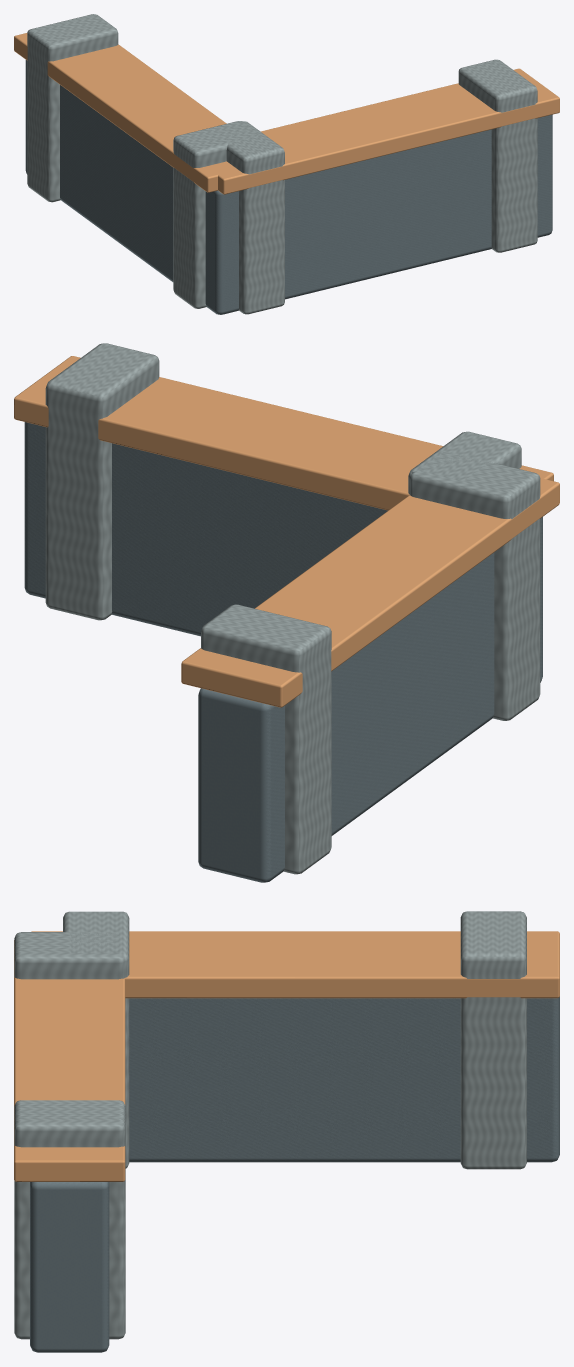
File: dwarven-runeforge-dungeon-dwarven-runeforge-dungeon-pa-c2a74ee6__28583.glb
3 renders of one model, top to bottom at view 1: azimuth 30°, elevation 25°; view 2: azimuth 150°, elevation 25°; view 3: azimuth 270°, elevation 25°, orthographic. The views are drawn at different scales.
Parts seen in each view (by area): view 1: dwarven-runeforge-dungeon-parapet-corner; view 2: dwarven-runeforge-dungeon-parapet-corner; view 3: dwarven-runeforge-dungeon-parapet-corner.
Part boxes in pixels (<box>): dwarven-runeforge-dungeon-parapet-corner: <box>14,14,559,314</box>; dwarven-runeforge-dungeon-parapet-corner: <box>14,343,559,882</box>; dwarven-runeforge-dungeon-parapet-corner: <box>14,911,559,1352</box>.
Bounding box in the file's own units: 2.06 × 0.9 × 2.06.
3 materials, 2 textured.
